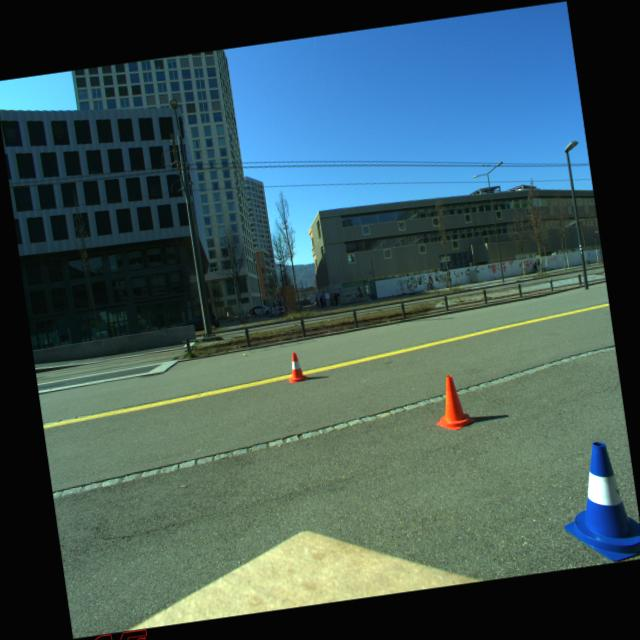blue_cone: (552, 436, 640, 567)
orange_cone: (429, 372, 477, 433), (286, 352, 308, 384)
